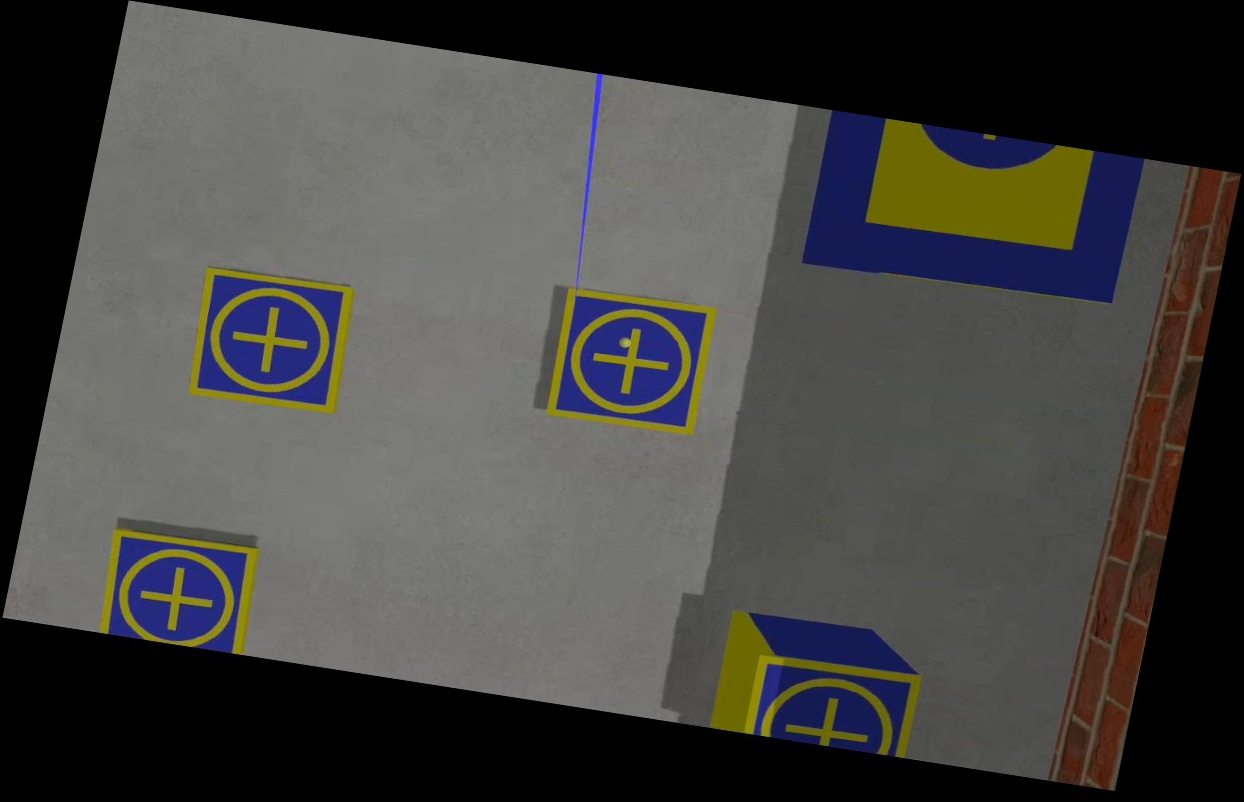large_base: (792, 109, 1143, 314)
small_base: (179, 264, 361, 419), (541, 285, 720, 440), (96, 525, 261, 654), (742, 652, 920, 759)
